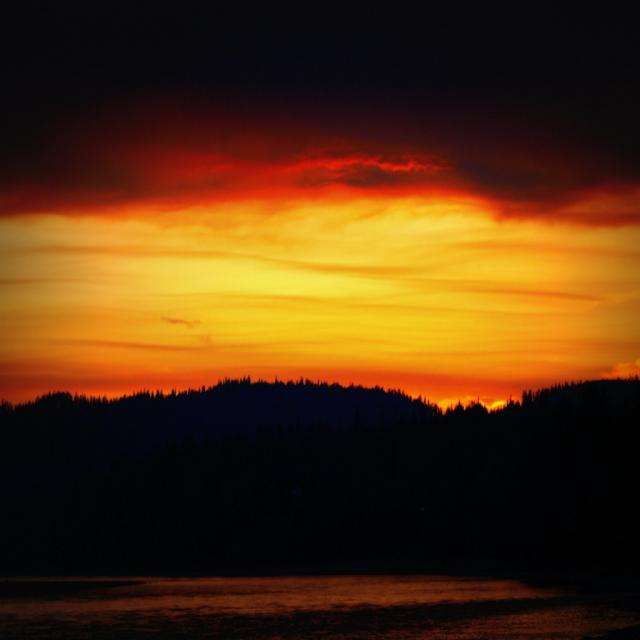no_fire: (0, 174, 640, 479)
